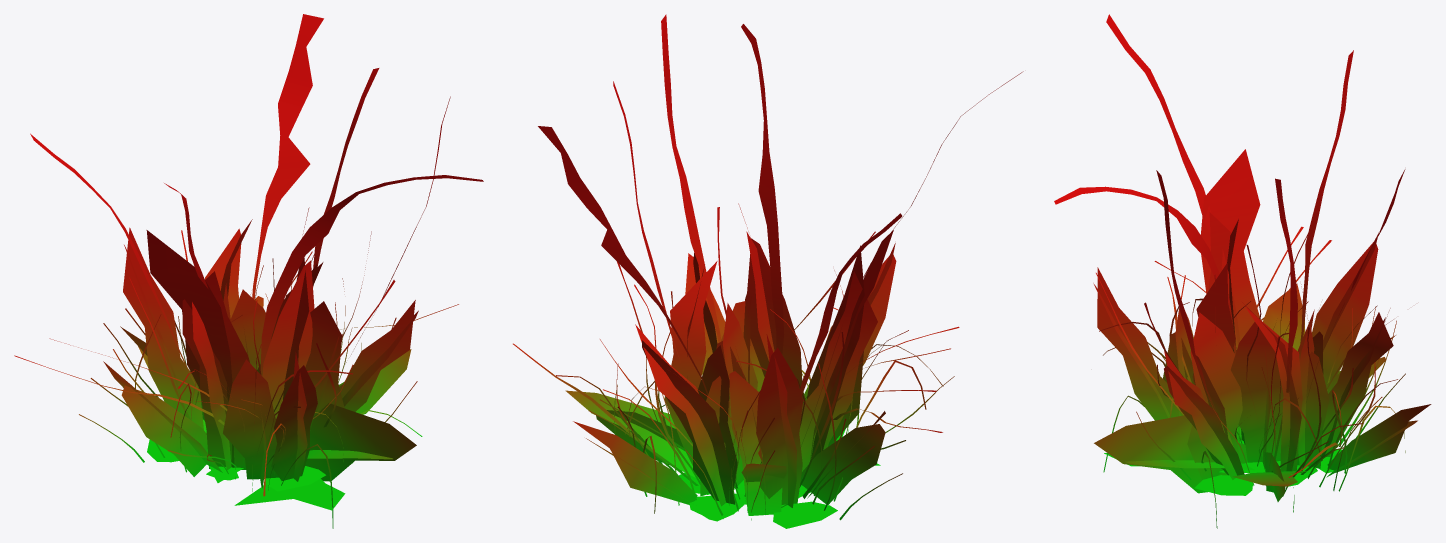
Rendered from uddmcgbia_Var4_LOD0.fbx.
3 views of the same model, side by side, from view 1: azimuth 30°, elevation 25°; view 2: azimuth 150°, elevation 25°; view 3: azimuth 270°, elevation 25° (orthographic). The views are drawn at different scales.
Visible parts, largest first — view 1: _762a_Var4_LOD0; view 2: _762a_Var4_LOD0; view 3: _762a_Var4_LOD0.
Part boxes in pixels (<box>): _762a_Var4_LOD0: <box>14,14,483,528</box>; _762a_Var4_LOD0: <box>513,14,1023,528</box>; _762a_Var4_LOD0: <box>1054,14,1431,528</box>.
Bounding box in the file's own units: 41.54 × 36.67 × 32.72.
